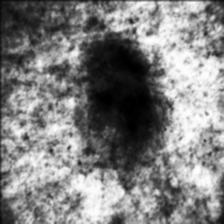Potentially Malignant Skin Tumors: (92, 43, 154, 135)
